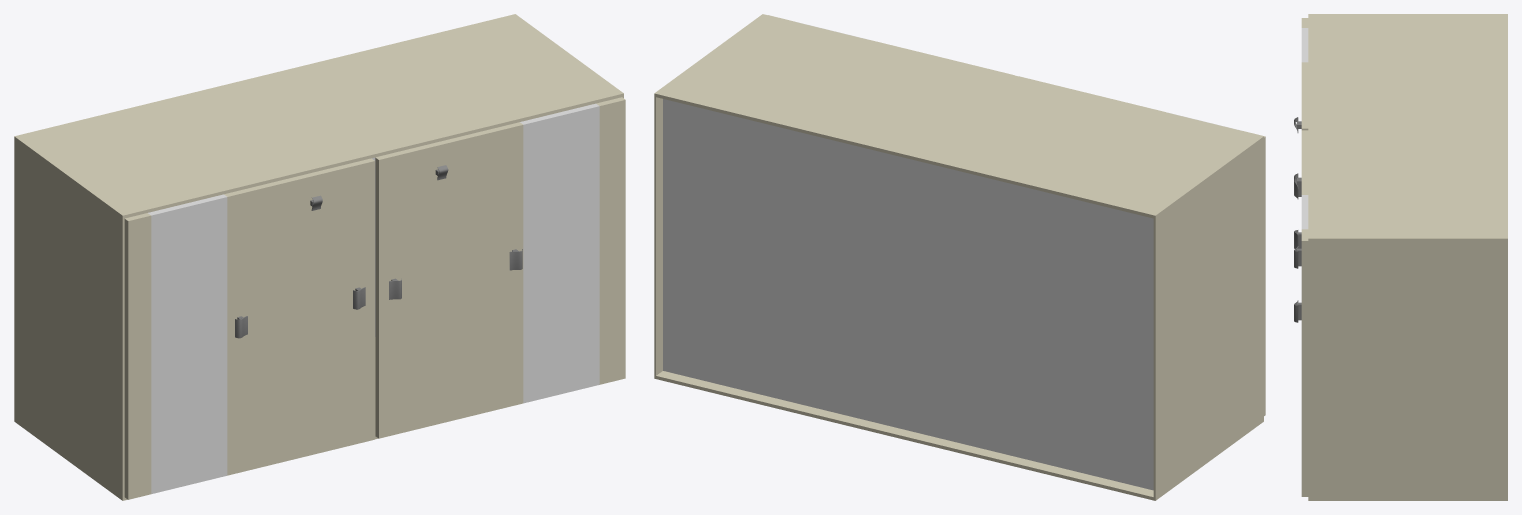
File: tv schrank.fbx
The picture shows the model from 3 angles, left to right: view 1: azimuth 30°, elevation 25°; view 2: azimuth 150°, elevation 25°; view 3: azimuth 270°, elevation 25°; orthographic projection. The views are drawn at different scales.
Visible parts, largest first — view 1: Plane.003, Plane.004, Plane.005, Plane.002, Plane.007, Plane.006, Plane.008, Plane.009; view 2: Plane.010, Plane.003, Plane.002, Plane, Plane.001, Plane.004; view 3: Plane.001, Plane.003, Plane.005, Plane, Plane.006, Plane.004, Plane.007.
Part boxes in pixels (x1,y1,x2,y2): Plane.003: (14,14,623,218); Plane.004: (124,188,253,499); Plane.005: (497,97,625,408); Plane.002: (14,140,124,497); Plane.007: (375,128,500,438); Plane.006: (250,158,374,468); Plane.008: (253,161,374,245); Plane.009: (379,130,500,215); Plane.010: (663,99,1153,490); Plane.003: (654,14,1263,218); Plane.002: (1153,140,1263,497); Plane: (654,371,1263,500); Plane.001: (654,97,662,375); Plane.004: (1140,106,1265,415); Plane.001: (1308,242,1507,497); Plane.003: (1308,14,1507,241); Plane.005: (1301,184,1308,496); Plane: (1308,498,1507,500); Plane.006: (1301,74,1308,130); Plane.004: (1301,18,1308,73); Plane.007: (1301,130,1308,184).
Size of the model in its own units: 160 by 87 by 64.31.
